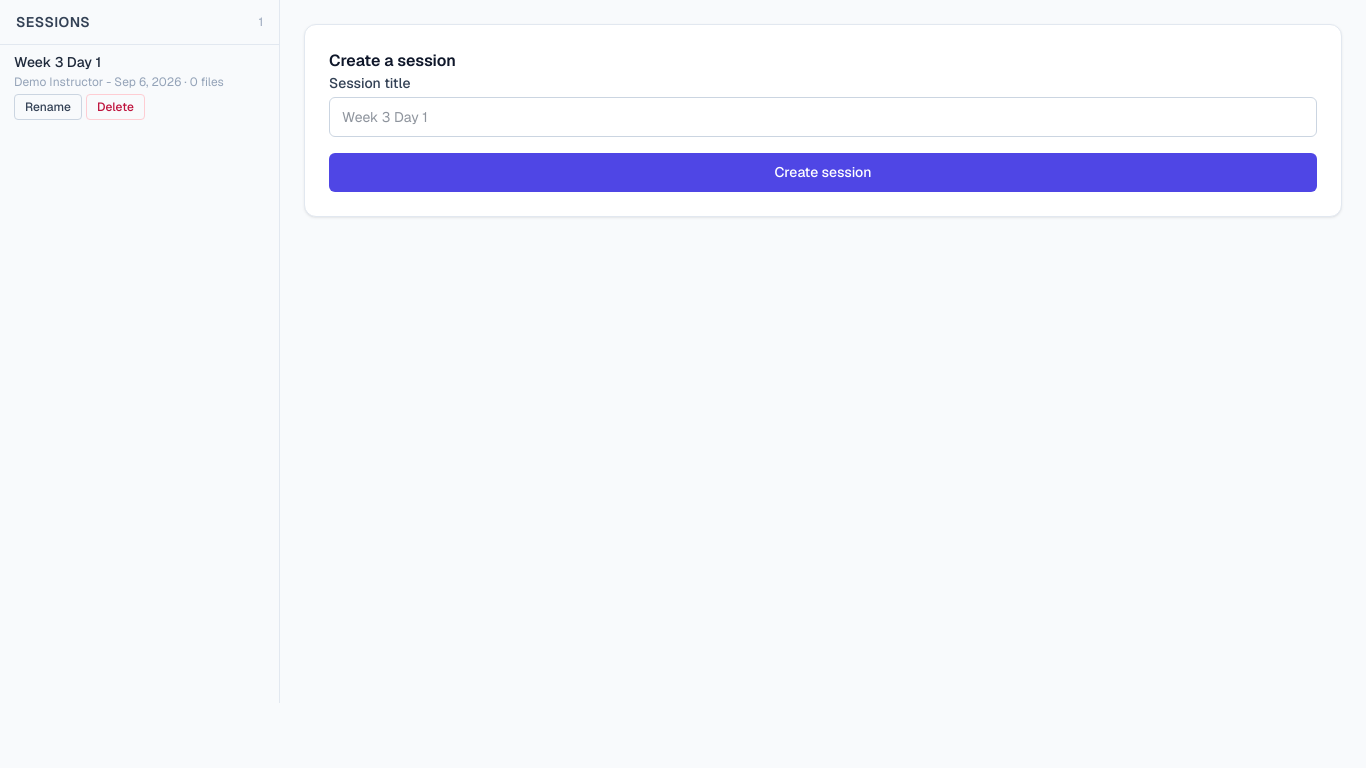
Test: <InstructorDashboard /> — rename › renames a session in place and reflects the new title
Check: the link "Week 3 Day 1 Demo Instructor - Sep 6, 2026 · 0 files" is shown, box [14,53,224,90]
Click the button "Rename": (48, 107) [14,94,82,120]
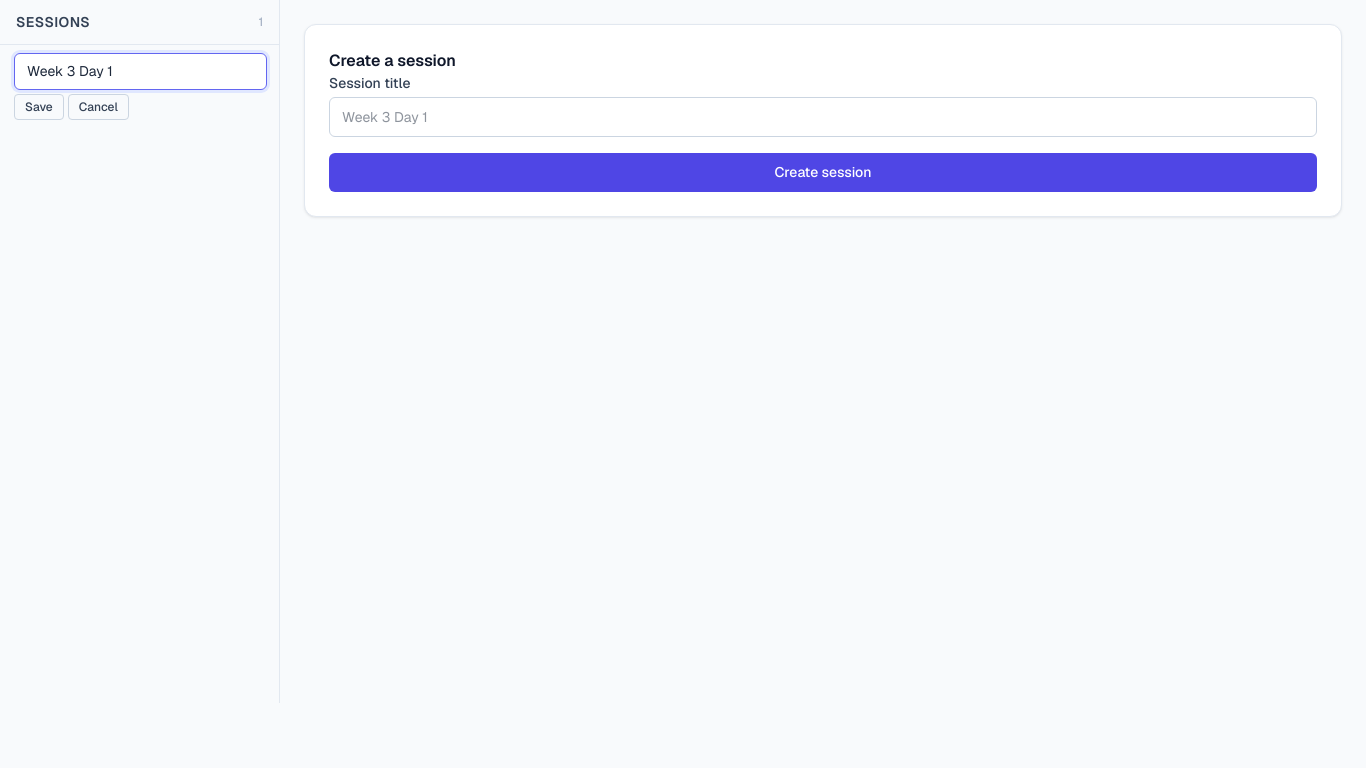
Replace the text in the field showing "Week 3 Day 1" with "Week 3 Day 1 (renamed)": (140, 71) [14,53,267,90]
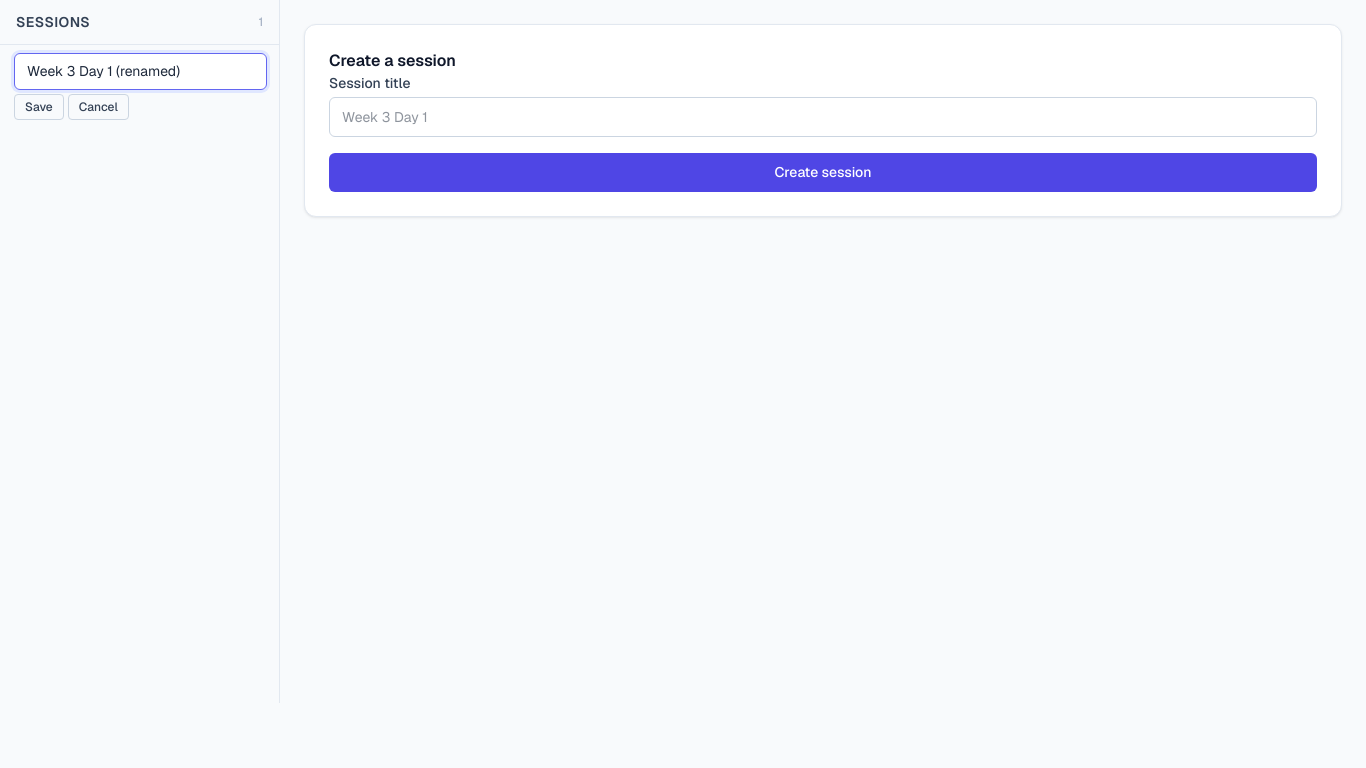
Click the button "Save": (39, 107) [14,94,64,120]
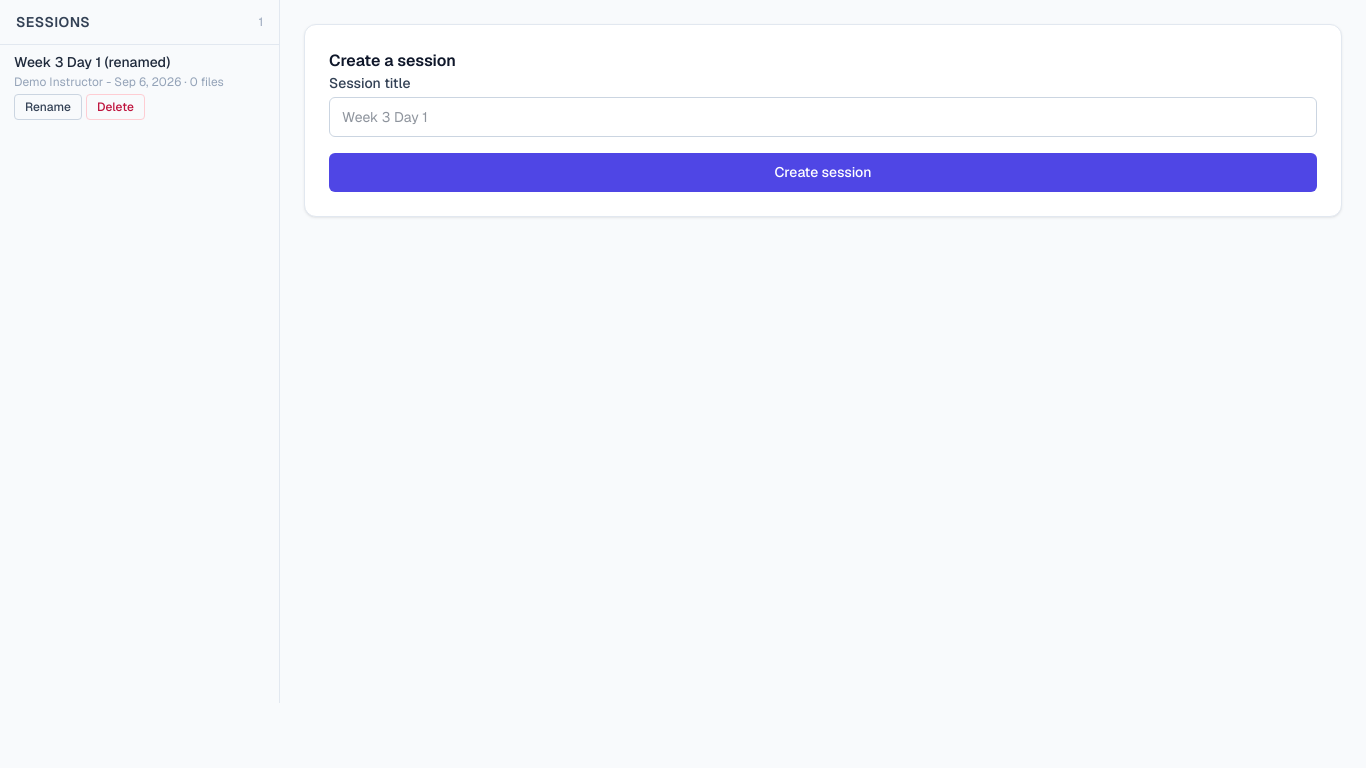
Check: the link "Week 3 Day 1 (renamed)" is shown, box [14,53,224,90]
